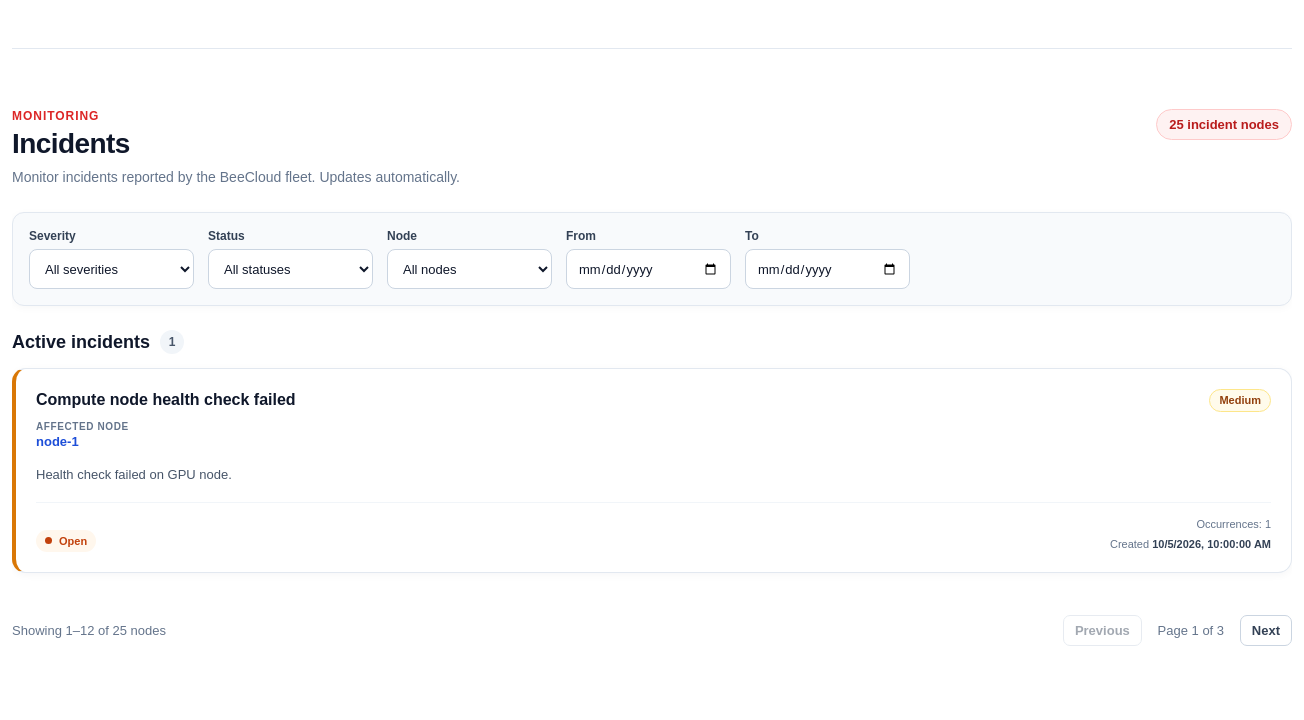
Scenario: IncidentsSection › requests the next server page
This screenshot has width=1304, height=720.
Expected: the heading "Compute node health check failed" is shown, [36,389,296,411]
Step 1. Click the button "Next" → [1266, 630], box [1240,615,1292,646]
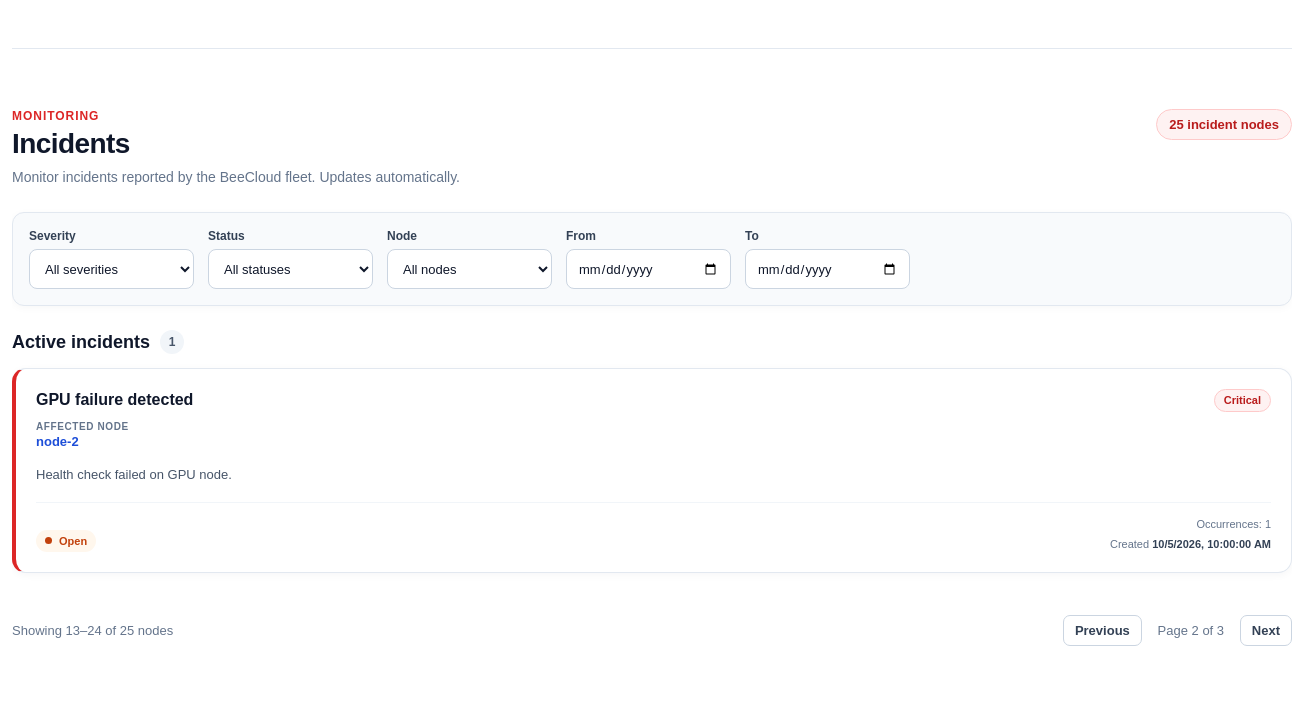
Result: the heading "GPU failure detected" is shown at [36,389,193,411]
Result: the text "Showing 13–24 of 25 nodes" is shown at [12,623,173,638]
